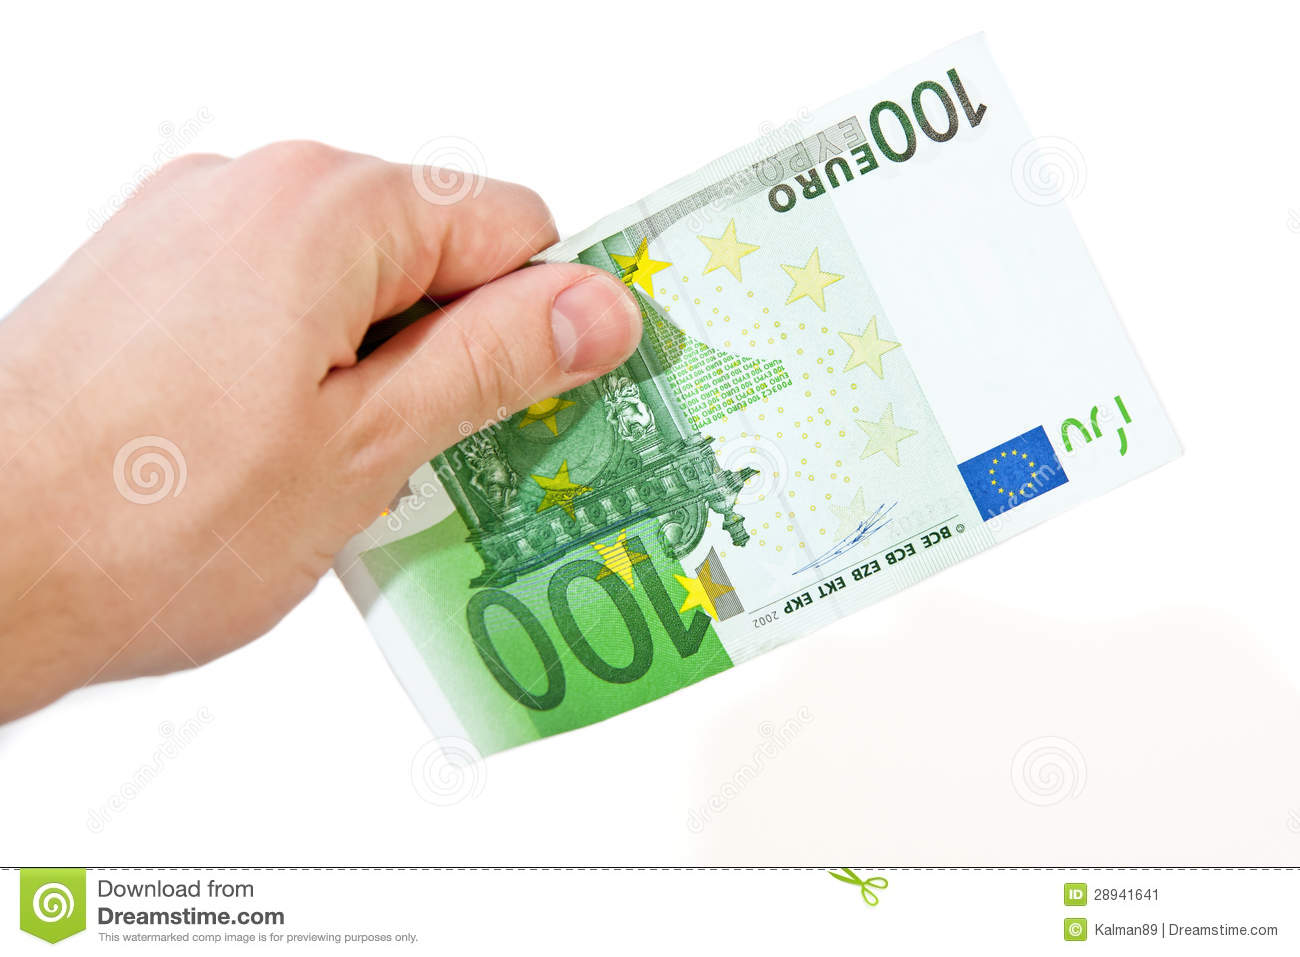billete: (326, 24, 1191, 775)
